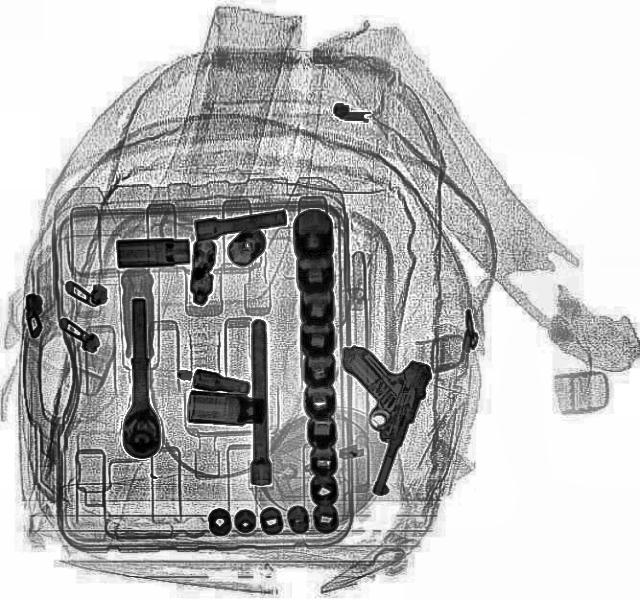Gun: (294, 340, 436, 496)
